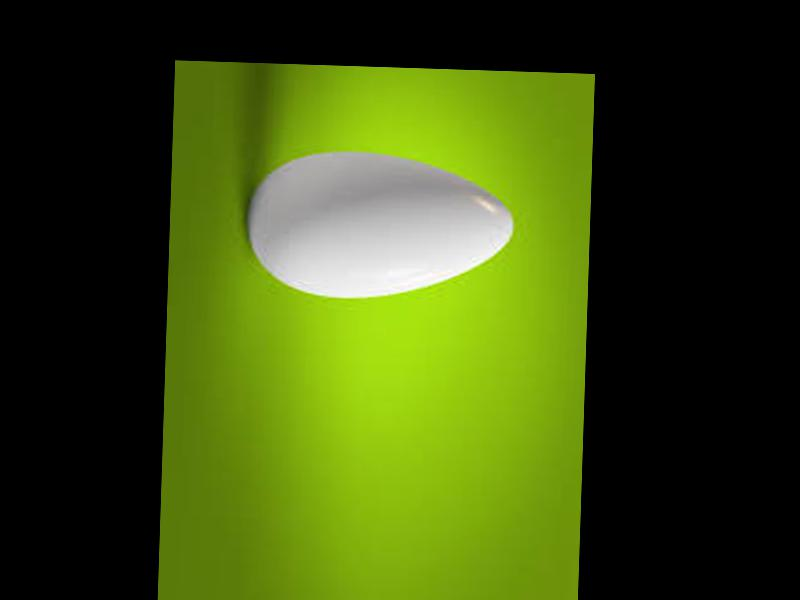Eggs: (247, 148, 519, 303)
